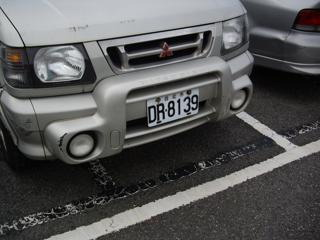plate: (146, 89, 200, 123)
